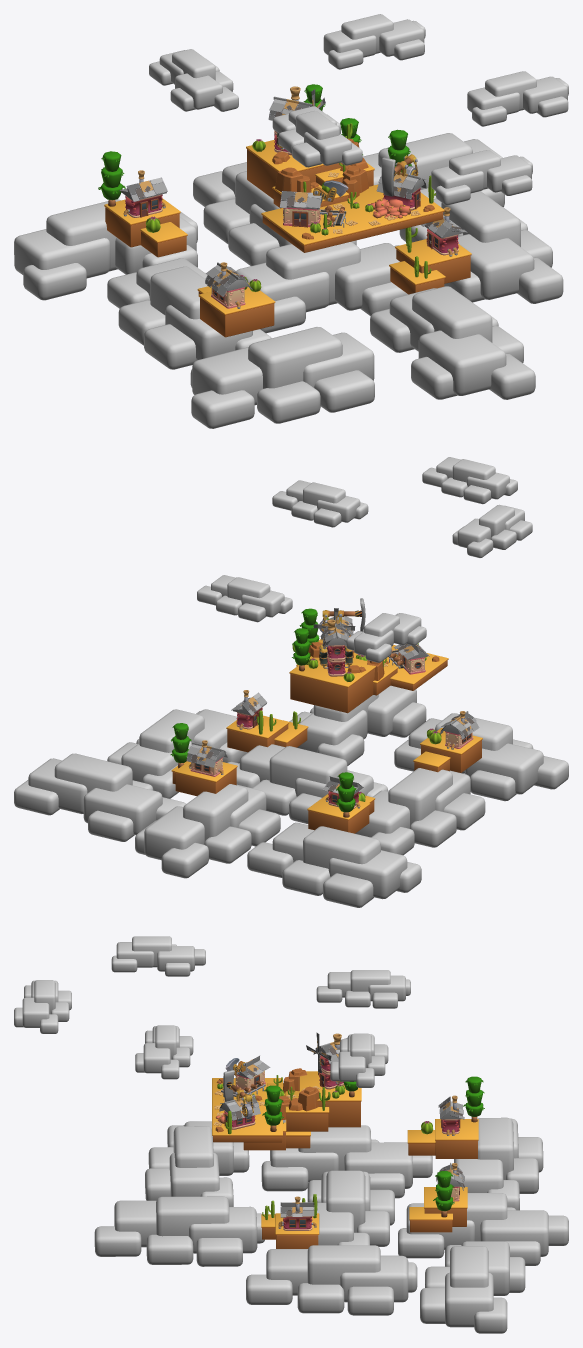
The model's file is mine.glb.
3 renders of one model, top to bottom at view 1: azimuth 30°, elevation 25°; view 2: azimuth 150°, elevation 25°; view 3: azimuth 270°, elevation 25°, orthographic. The views are drawn at different scales.
Visible parts, largest first — view 1: Cube.019, Cube.015, Cube.005, Cube.009, Cube.012, Cube.008, Cube.006, spw_build_house_03.001, spw_land_01, Cube.018, Cube.002, Cube.004 (+17 smaller); view 2: Cube.012, Cube.007, Cube.006, Cube.009, Cube.019, Cube.005, Cube.015, Cube.008, spw_land_01.001, spw_build_house_03.001, Cube.002, Cube.018 (+15 smaller); view 3: Cube.008, Cube.015, Cube.007, Cube.009, Cube.006, Cube.019, Cube.005, Cube.012, Cube.001, Cube.003, spw_build_house_03.001, Cube.018 (+16 smaller).
Boxes of the visible parts, x1=… form: Cube.019: x1=190, y1=327, x2=374, y2=428; Cube.015: x1=370, y1=286, x2=535, y2=399; Cube.005: x1=235, y1=242, x2=407, y2=333; Cube.009: x1=107, y1=258, x2=271, y2=369; Cube.012: x1=14, y1=199, x2=197, y2=300; Cube.008: x1=399, y1=191, x2=563, y2=303; Cube.006: x1=193, y1=162, x2=356, y2=265; spw_build_house_03.001: x1=389, y1=207, x2=471, y2=294; spw_land_01: x1=261, y1=184, x2=444, y2=252; Cube.018: x1=323, y1=14, x2=425, y2=69; Cube.002: x1=467, y1=71, x2=568, y2=126; Cube.004: x1=431, y1=150, x2=532, y2=205; Cube.012: x1=247, y1=822, x2=421, y2=907; Cube.007: x1=14, y1=753, x2=185, y2=841; Cube.006: x1=135, y1=784, x2=280, y2=878; Cube.009: x1=355, y1=768, x2=485, y2=855; Cube.019: x1=394, y1=713, x2=568, y2=801; Cube.005: x1=227, y1=744, x2=388, y2=823; Cube.015: x1=289, y1=685, x2=426, y2=765; Cube.008: x1=107, y1=709, x2=247, y2=798; spw_land_01.001: x1=289, y1=656, x2=375, y2=713; spw_build_house_03.001: x1=226, y1=690, x2=308, y2=752; Cube.002: x1=272, y1=480, x2=368, y2=527; Cube.018: x1=197, y1=575, x2=292, y2=622; Cube.008: x1=246, y1=1245, x2=417, y2=1315; Cube.015: x1=94, y1=1196, x2=264, y2=1266; Cube.007: x1=420, y1=1241, x2=525, y2=1333; Cube.009: x1=261, y1=1125, x2=432, y2=1198; Cube.006: x1=398, y1=1193, x2=568, y2=1265; Cube.019: x1=145, y1=1121, x2=249, y2=1206; Cube.005: x1=307, y1=1170, x2=394, y2=1246; Cube.012: x1=454, y1=1117, x2=543, y2=1210; Cube.001: x1=316, y1=970, x2=410, y2=1008; Cube.003: x1=111, y1=936, x2=205, y2=976; spw_build_house_03.001: x1=261, y1=1194, x2=319, y2=1248; Cube.018: x1=330, y1=1033, x2=388, y2=1087.
Size of what is drawn, in the model's own units: 64.24 by 38.01 by 78.37.
Materials: 5 (4 with a texture image).
